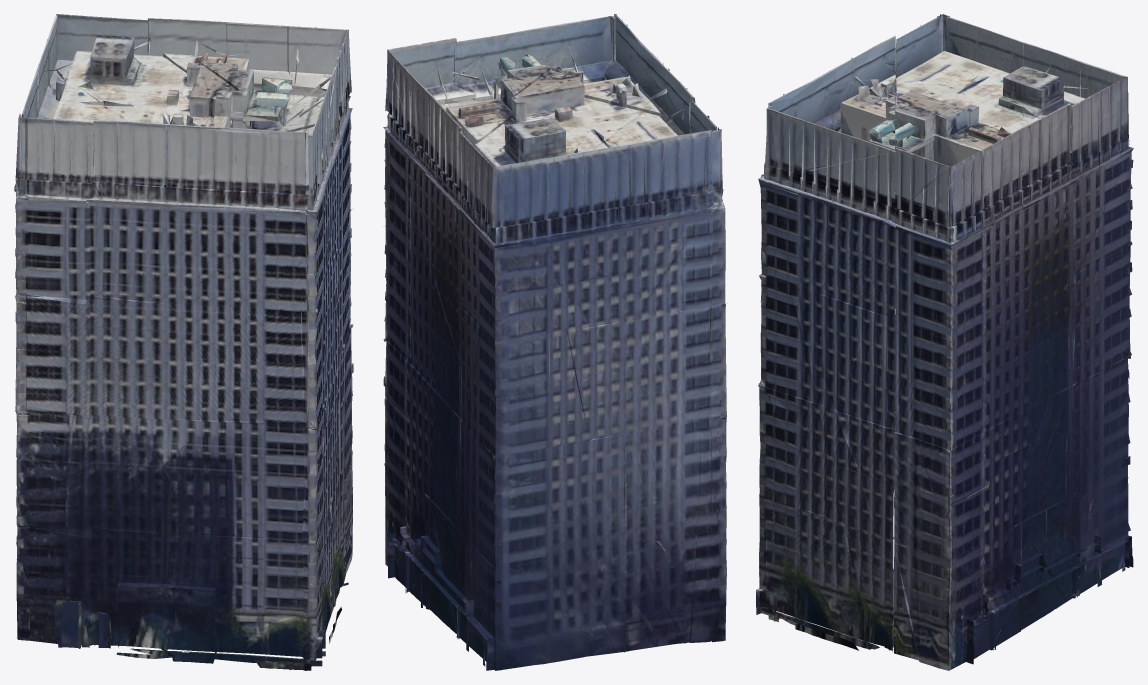
The picture shows the model from 3 angles, left to right: view 1: azimuth 30°, elevation 25°; view 2: azimuth 150°, elevation 25°; view 3: azimuth 270°, elevation 25°; orthographic projection. The views are drawn at different scales.
Visible parts, largest first — view 1: LA_B120; view 2: LA_B120; view 3: LA_B120.
Boxes of the visible parts, x1=… form: LA_B120: x1=14, y1=14, x2=353, y2=670; LA_B120: x1=383, y1=14, x2=727, y2=670; LA_B120: x1=756, y1=14, x2=1133, y2=670.
Size of the model in its own units: 57.18 by 84.92 by 56.71.
1 material, 1 textured.
